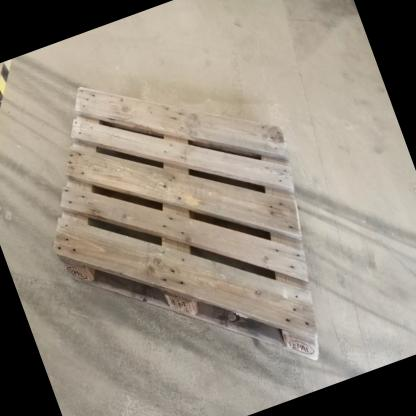BoxFace: (51, 81, 325, 372)
